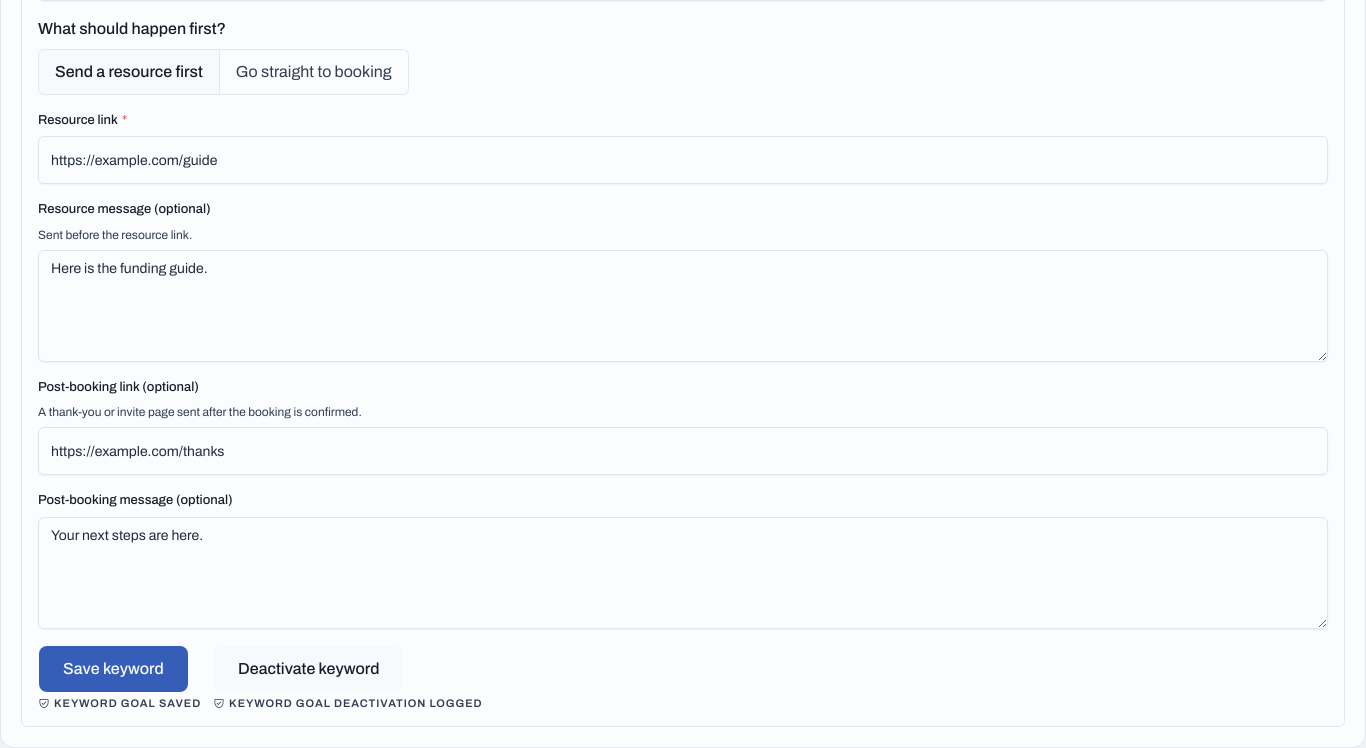
Scenario: CoachKeywordGoals › deactivates an existing goal through the logged control
The width and height of the screenshot is (1366, 748).
(page scrolled)
Click the button "Deactivate keyword".
click(309, 668)  # box [213,644,404,692]
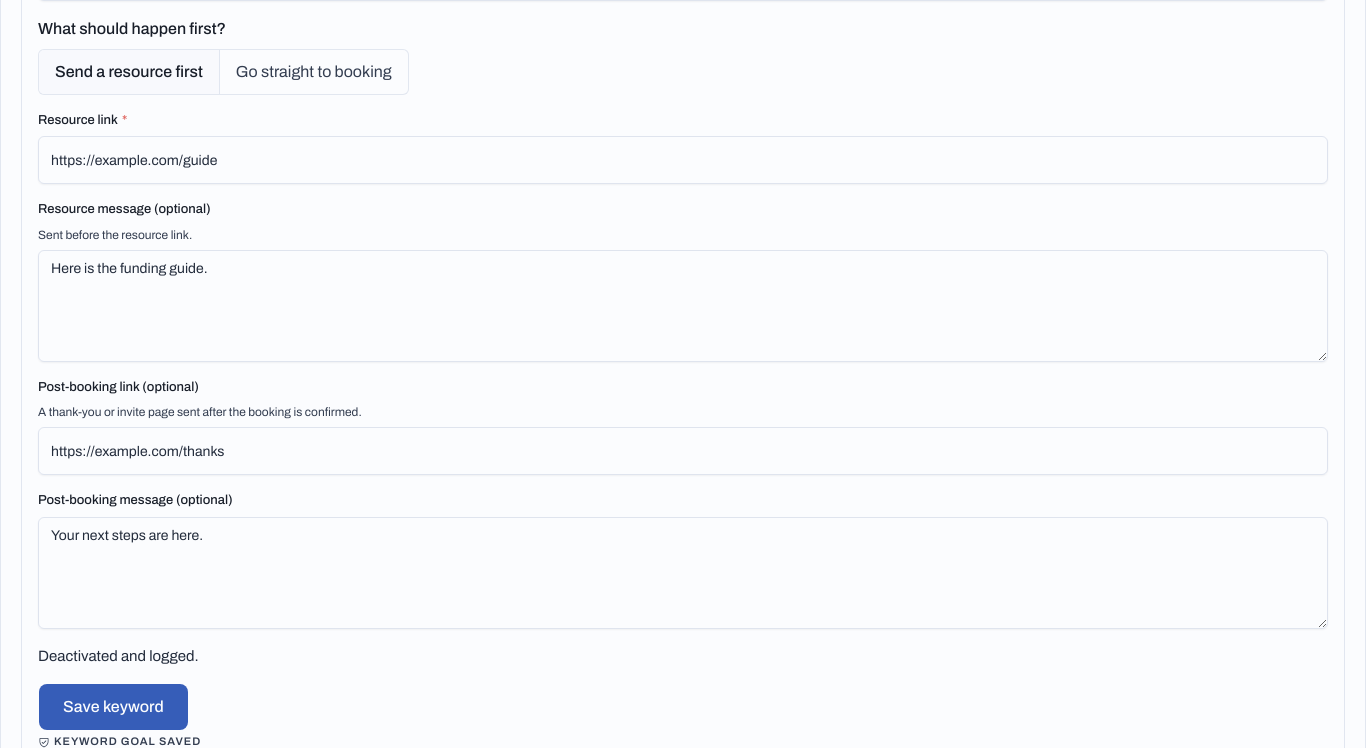
expect the message shows "Deactivated and logged": met, box [38,648,199,664]
